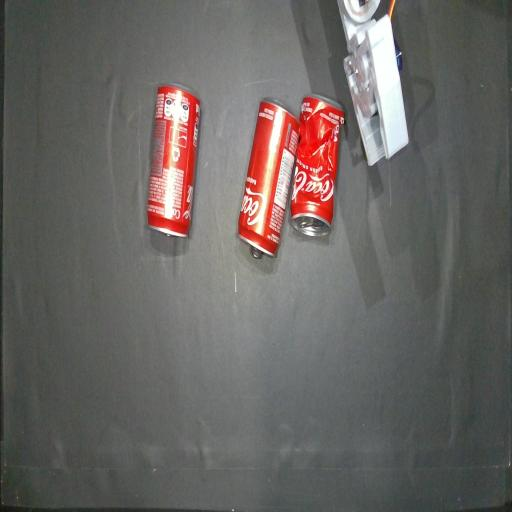lata: (238, 99, 298, 257), (146, 85, 200, 237)
lata_defectuoso: (290, 95, 344, 236)
